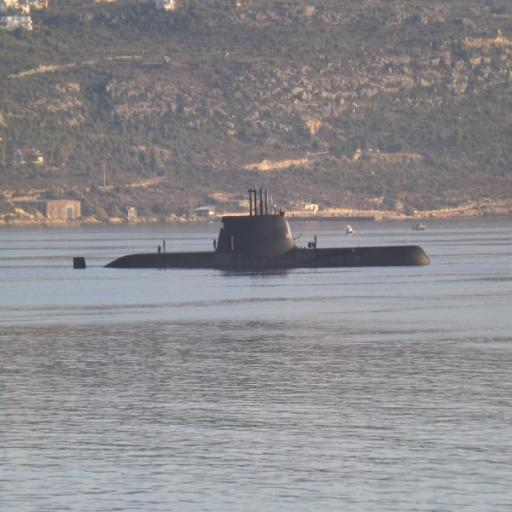submarine: (45, 180, 438, 263)
